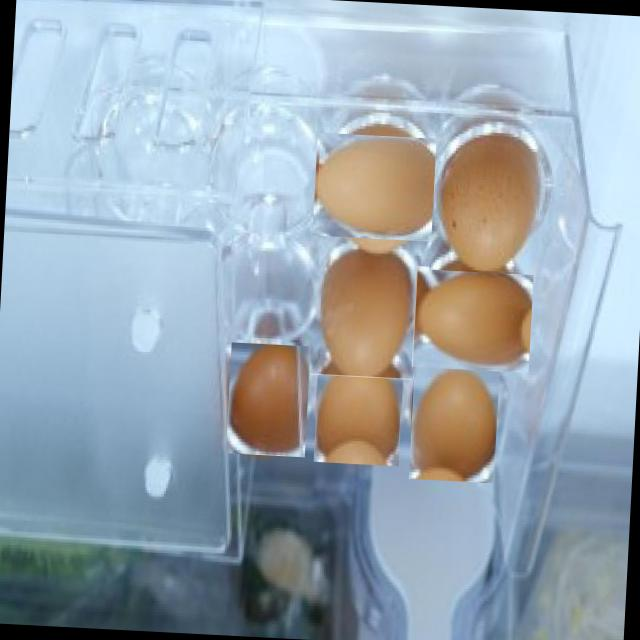eggs: (431, 132, 542, 275), (319, 126, 443, 250), (310, 246, 419, 380), (415, 262, 530, 377), (408, 359, 500, 484), (313, 355, 404, 467), (225, 342, 311, 458)
